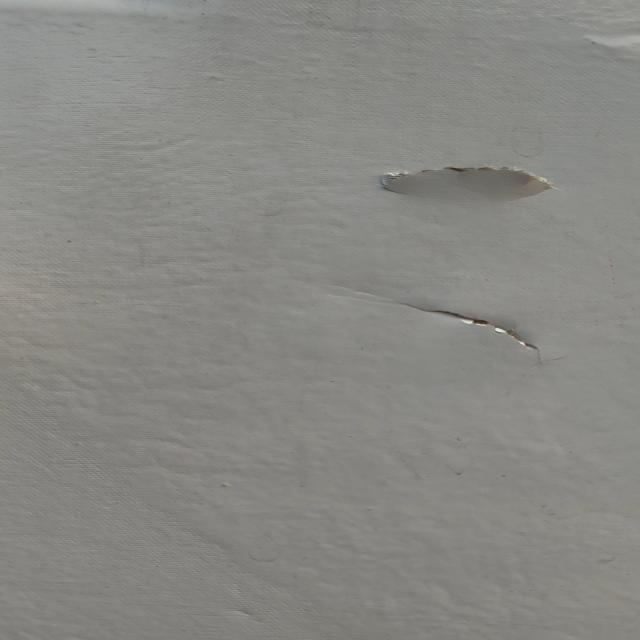Scratches: (319, 266, 579, 368), (363, 146, 578, 204)
